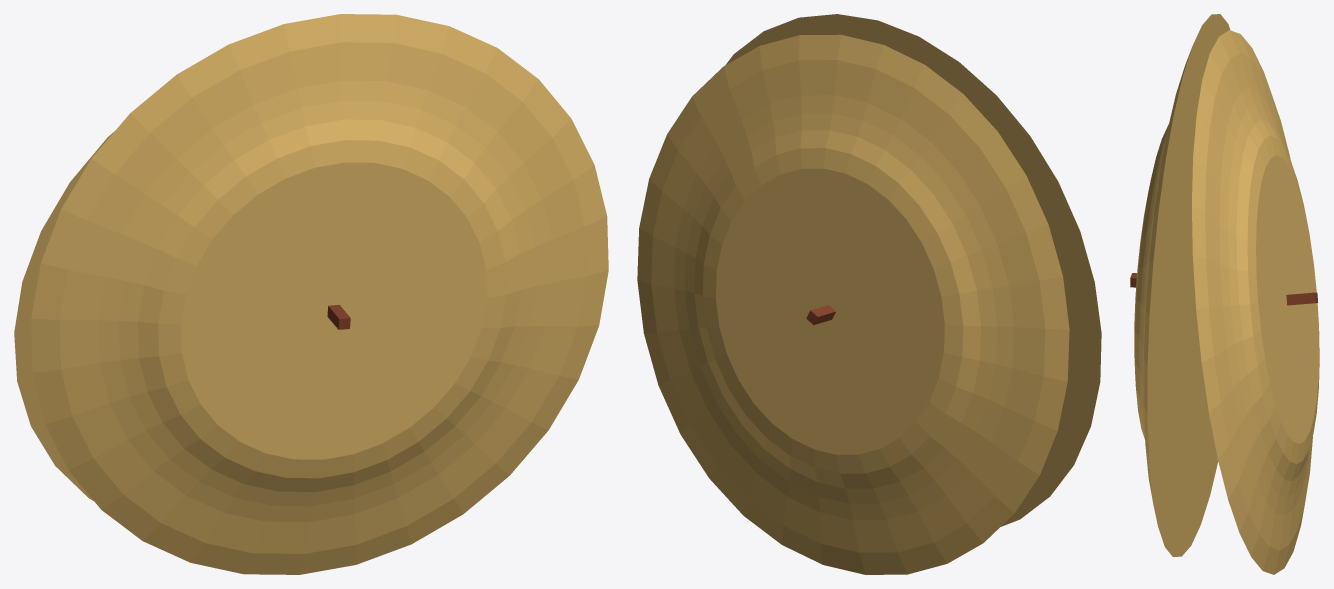
File: platillos.dae
3 views of the same model, side by side, from view 1: azimuth 30°, elevation 25°; view 2: azimuth 150°, elevation 25°; view 3: azimuth 270°, elevation 25° (orthographic). The views are drawn at different scales.
Parts seen in each view (by area): view 1: Cube.001; view 2: Cube.001; view 3: Cube.001.
Boxes of the visible parts, <box> form: Cube.001: <box>14,14,608,574</box>; Cube.001: <box>637,14,1101,574</box>; Cube.001: <box>1130,14,1319,574</box>.
Bounding box in the file's own units: 1.24 × 0.4258 × 1.25.
